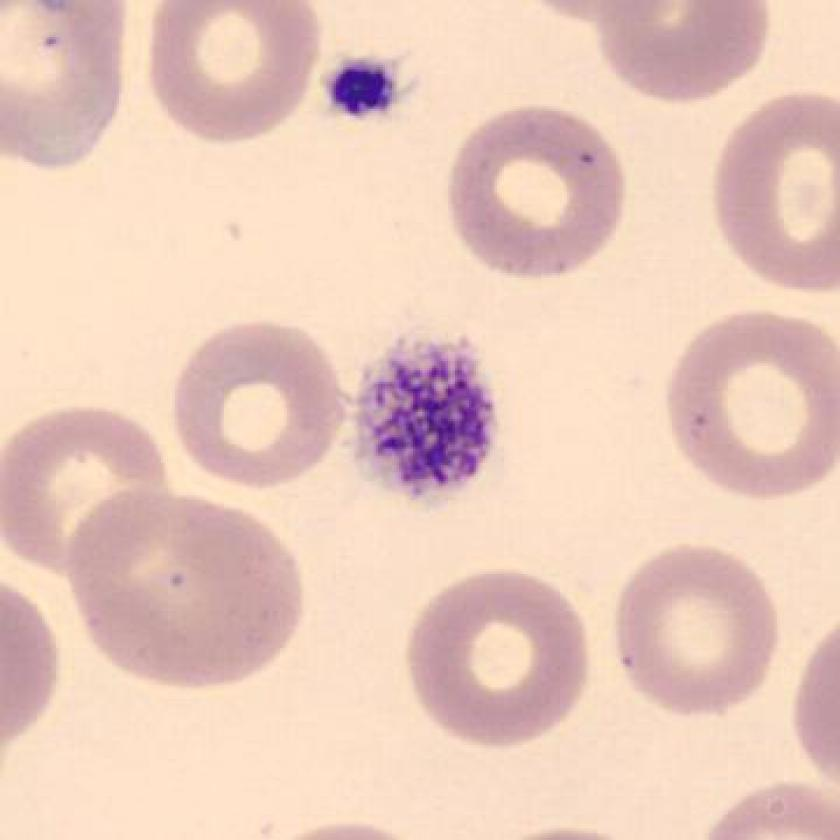platelets: (335, 316, 507, 515), (307, 38, 416, 142)
